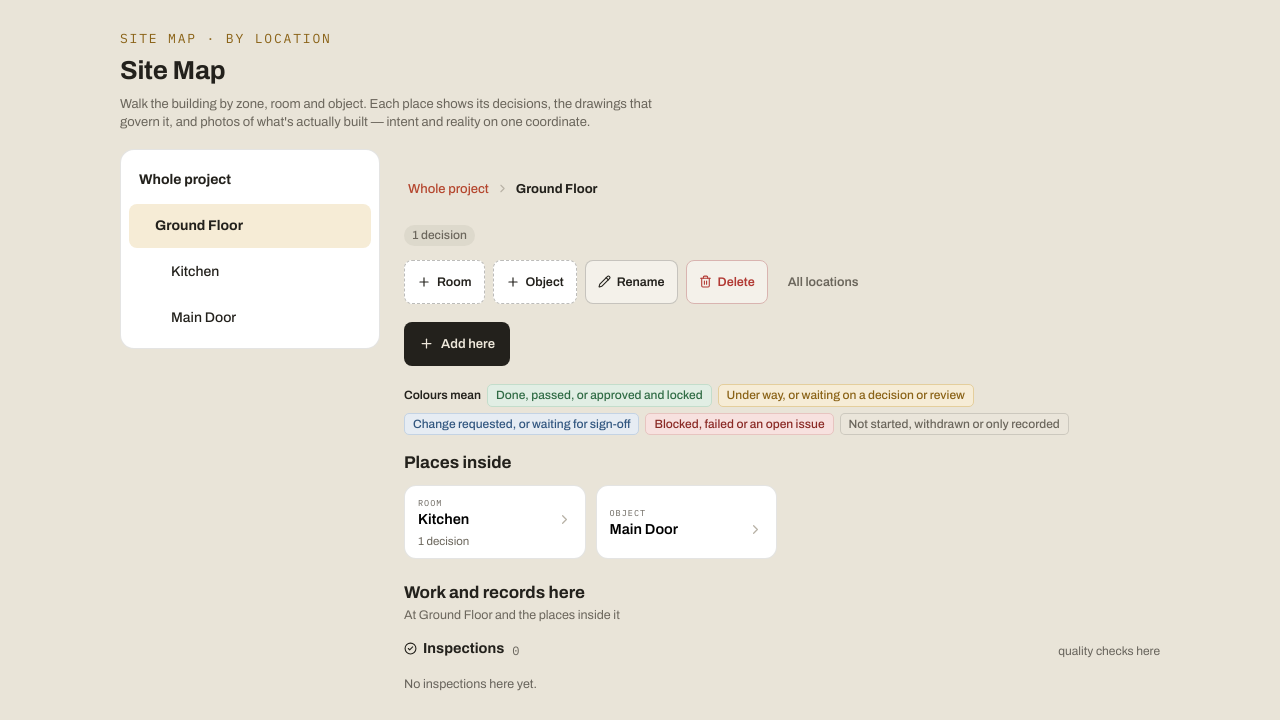
Test: B4 — a location delete is confirmed first › a location holding a decision offers only Close
Click the button with test id "place-delete" at (727, 282), box [686,260,768,304]
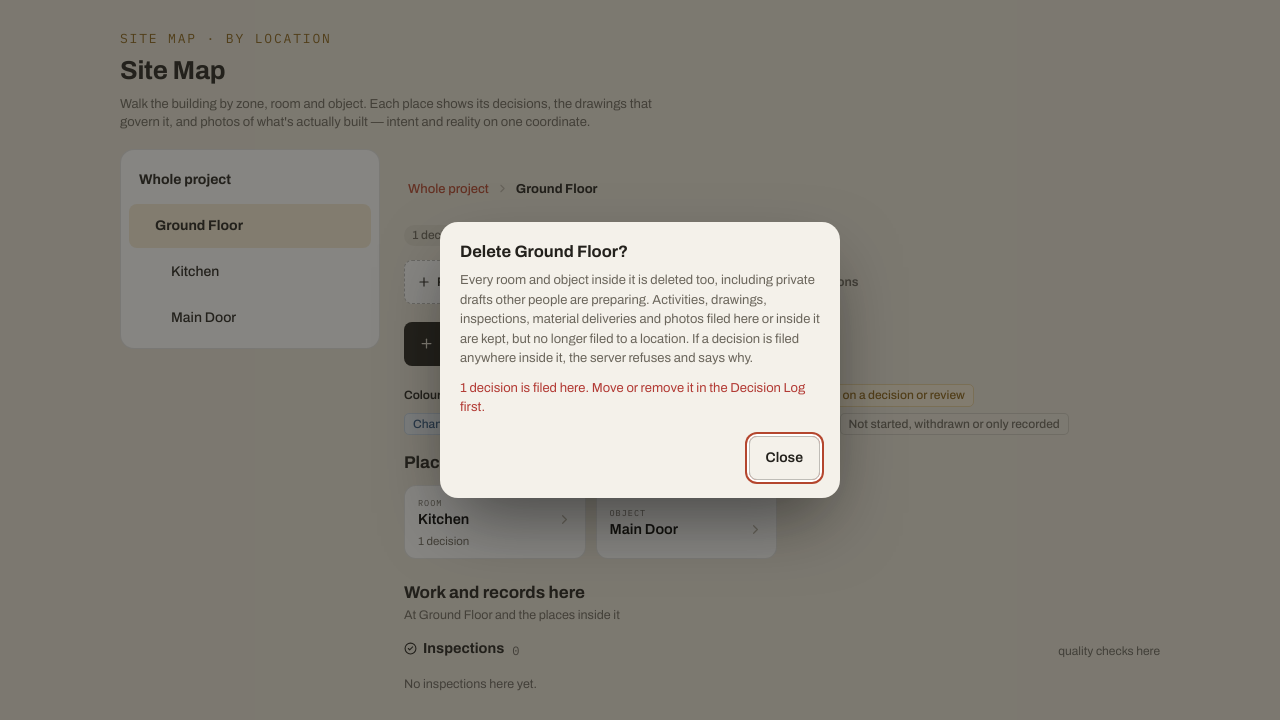
Expected: the text with test id "confirm-location-delete-blocked" shows "Move or remove it in the Decision Log first.", [460,381,805,414]
